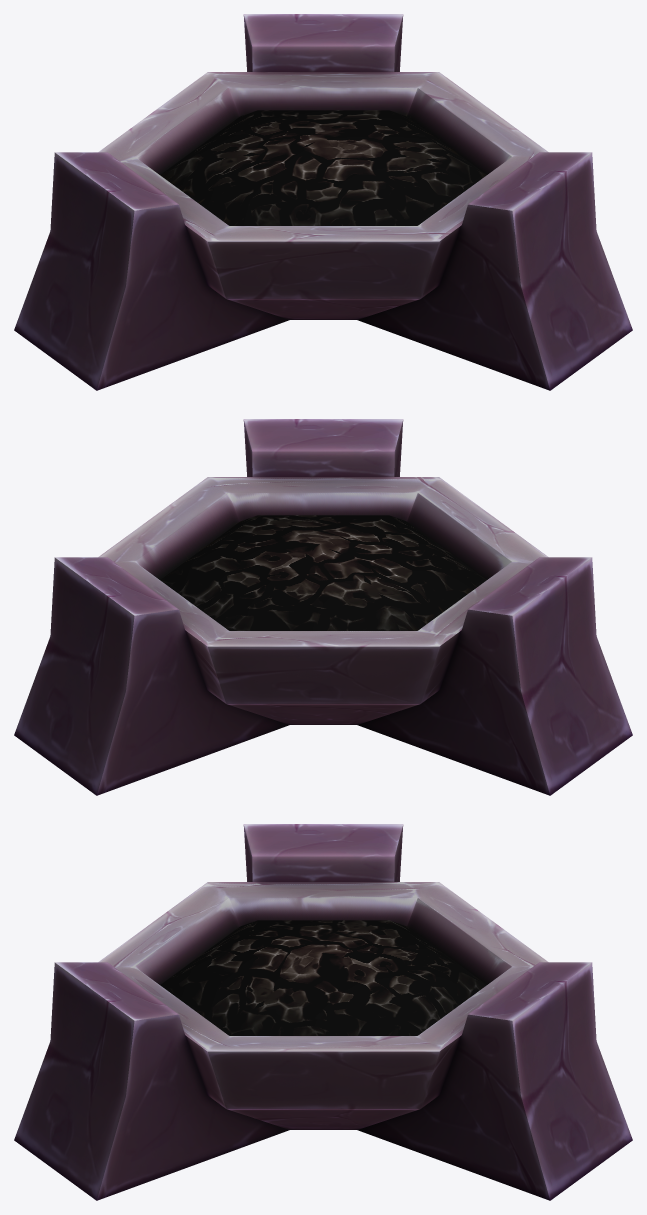
Rendered from torch_big.FBX.
The picture shows the model from 3 angles, top to bottom: view 1: azimuth 30°, elevation 25°; view 2: azimuth 150°, elevation 25°; view 3: azimuth 270°, elevation 25°; orthographic projection.
Parts seen in each view (by area): view 1: torch_big; view 2: torch_big; view 3: torch_big.
Part boxes in pixels (x1,y1,x2,y2): torch_big: (14, 14, 632, 390); torch_big: (14, 419, 632, 795); torch_big: (14, 824, 632, 1200).
Bounding box in the file's own units: 15.99 × 5.58 × 18.47.
